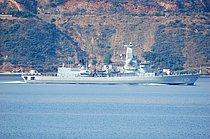MIL_Ship: (19, 54, 201, 86)
